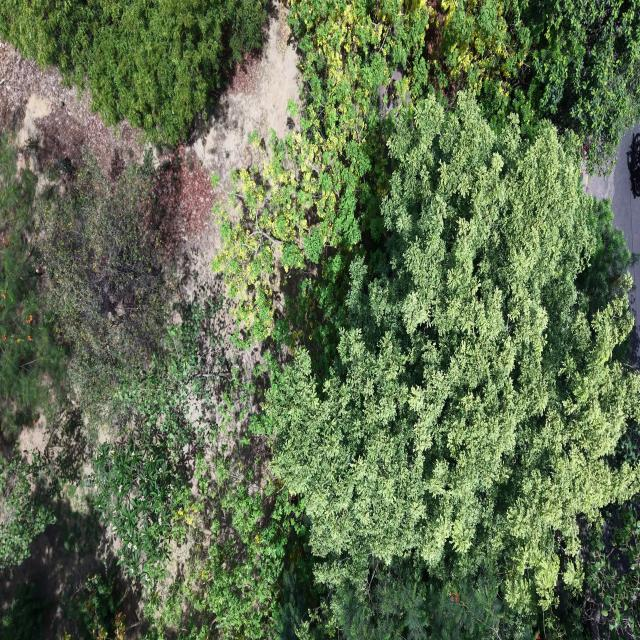DRY_AREA: (0, 5, 299, 301), (0, 3, 299, 298), (0, 6, 299, 297), (0, 5, 299, 261), (0, 42, 145, 189), (190, 5, 299, 199), (0, 41, 142, 172), (192, 9, 299, 182), (585, 123, 639, 255)
PATHWAYS: (586, 123, 639, 254)
VEGETATION_TREE: (0, 0, 639, 639), (98, 94, 637, 638), (263, 95, 638, 637), (265, 94, 639, 626), (0, 156, 305, 637), (216, 0, 639, 338), (289, 0, 639, 256), (215, 0, 434, 339), (0, 134, 170, 567), (94, 304, 305, 639), (0, 135, 172, 432), (0, 0, 265, 143), (38, 154, 173, 425), (95, 307, 226, 581), (442, 0, 639, 167), (0, 134, 62, 567), (297, 563, 537, 639), (0, 134, 61, 431), (548, 496, 639, 638), (550, 500, 639, 638), (0, 447, 55, 568), (65, 562, 127, 639), (0, 584, 51, 639)
